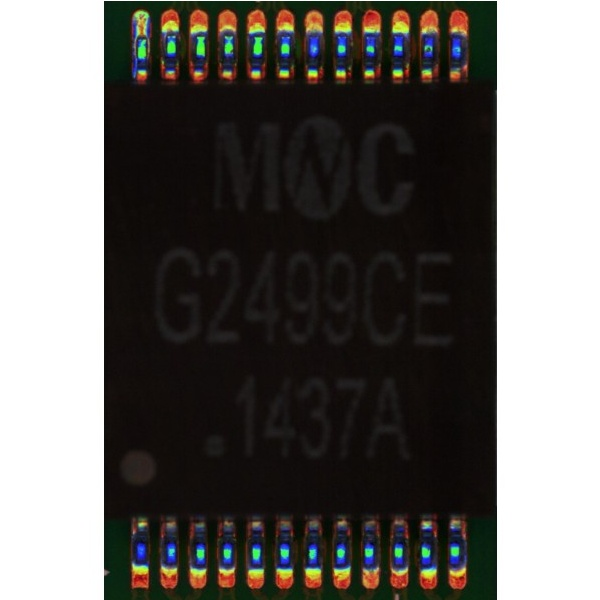Bad_podu: (136, 24, 146, 46)
Bad_qiaojiao: (129, 35, 135, 76)
